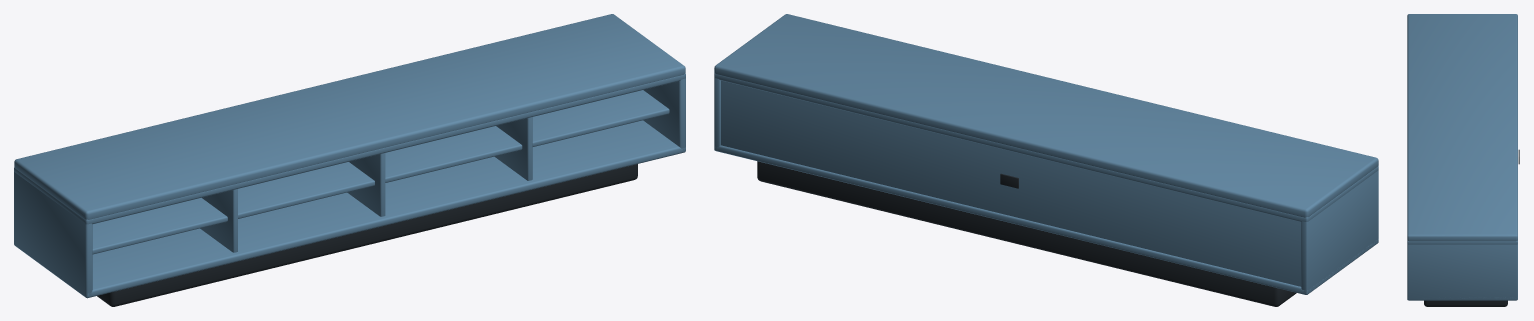
The model's file is open-media-bench.glb.
3 views of the same model, side by side, from view 1: azimuth 30°, elevation 25°; view 2: azimuth 150°, elevation 25°; view 3: azimuth 270°, elevation 25° (orthographic). The views are drawn at different scales.
Visible parts, largest first — view 1: open-media-bench; view 2: open-media-bench; view 3: open-media-bench.
Part boxes in pixels (x1,y1,x2,y2): open-media-bench: (14,14,685,306); open-media-bench: (714,14,1378,306); open-media-bench: (1407,14,1519,306).
Size of the model in its own units: 2.1 by 0.38 by 0.45.
